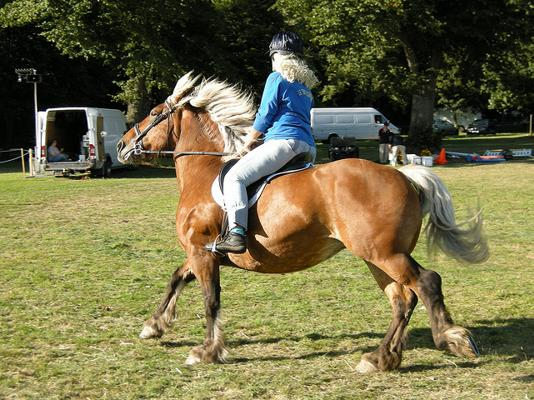person: (210, 33, 317, 255)
